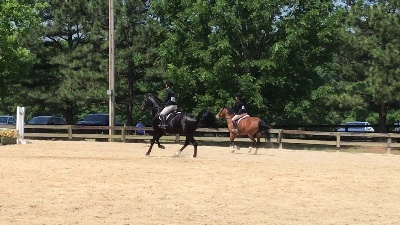jetta: (137, 91, 205, 161)
